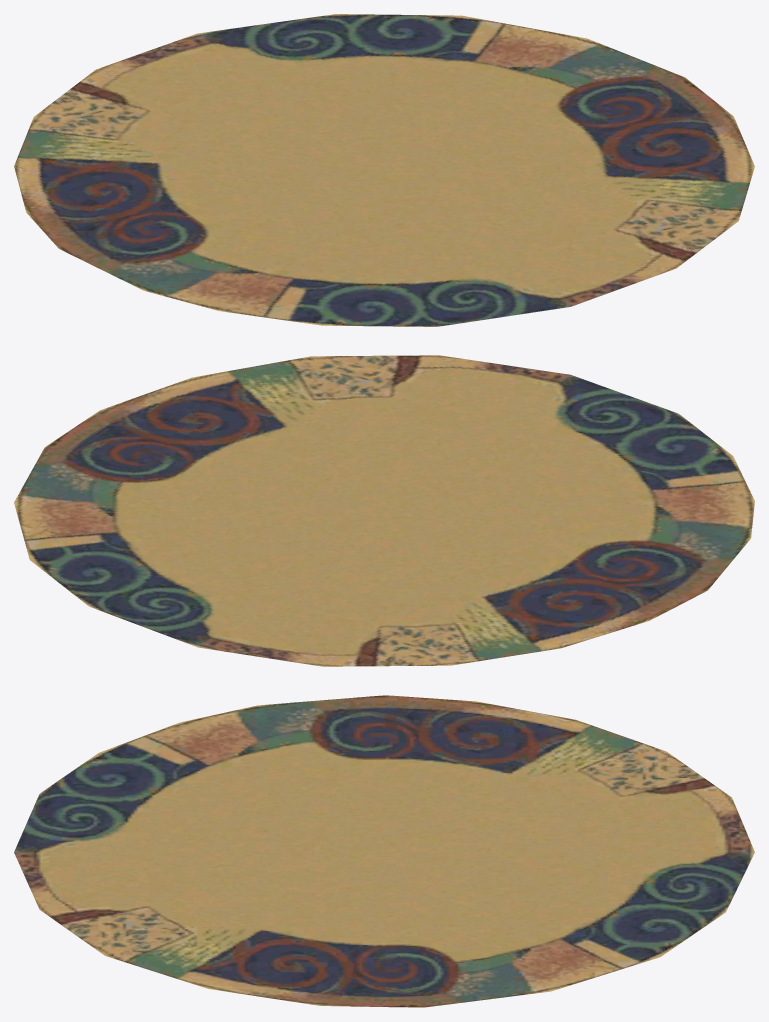
File: frn_mdrn_rug_rnd_m_s01.fbx
The picture shows the model from 3 angles, top to bottom: view 1: azimuth 30°, elevation 25°; view 2: azimuth 150°, elevation 25°; view 3: azimuth 270°, elevation 25°; orthographic projection.
Visible parts, largest first — view 1: mesh_node; view 2: mesh_node; view 3: mesh_node.
Boxes of the visible parts, x1,y1,x2,y2 form: mesh_node: [14, 14, 754, 326]; mesh_node: [14, 355, 754, 666]; mesh_node: [14, 695, 754, 1007].
Size of the model in its own units: 5.26 by 0 by 5.27.
